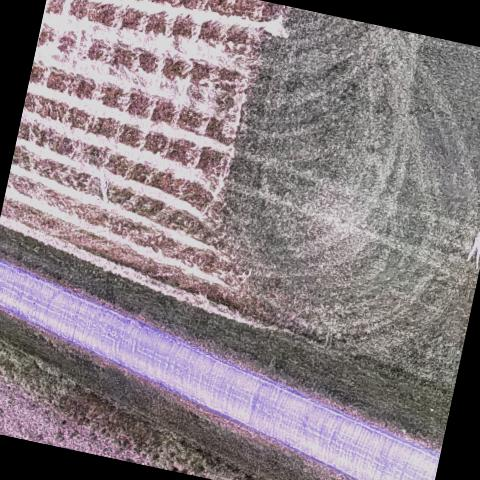person: (462, 221, 480, 269)
